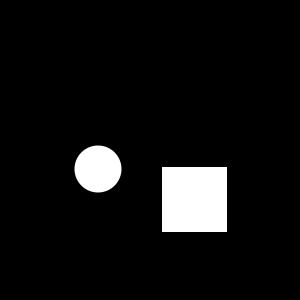circle: (162, 167, 227, 232)
rectangle: (74, 146, 122, 193)
